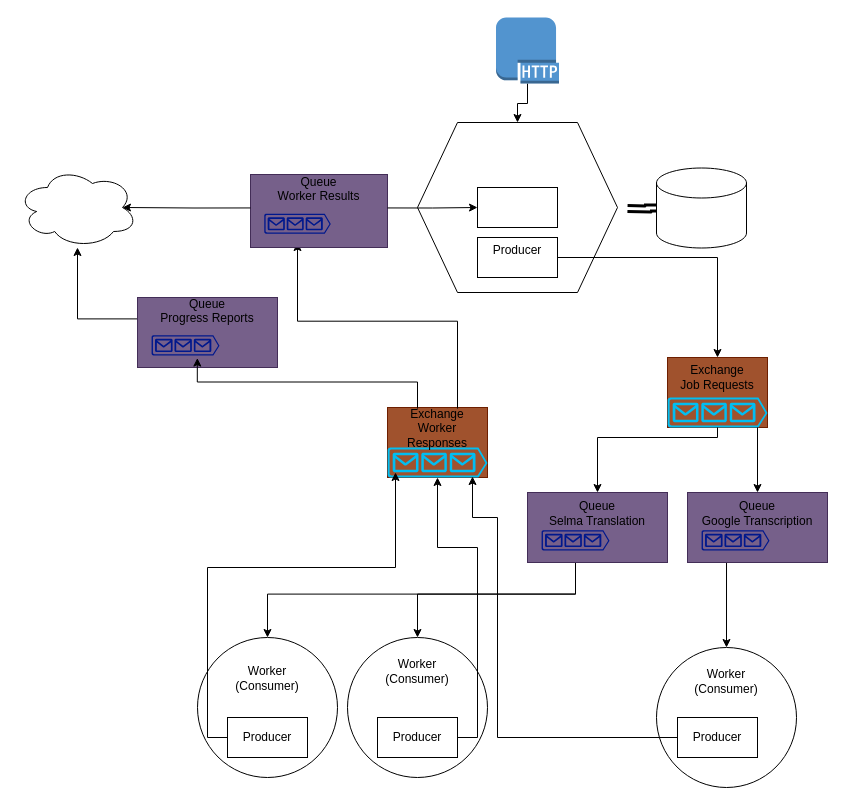
The diagram is 845 pixels wide and 805 high, and some of its shapes have lost their labels. Each missing label, with the box of its shape:
Consumer: (476, 186, 558, 228)
Elsewhere: (16, 166, 138, 248)
Maestro: (416, 122, 618, 292)
Orchestration DB: (656, 167, 746, 248)
